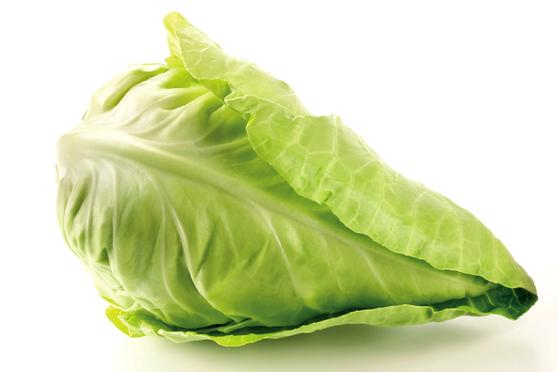cabbage: (56, 19, 536, 336)
